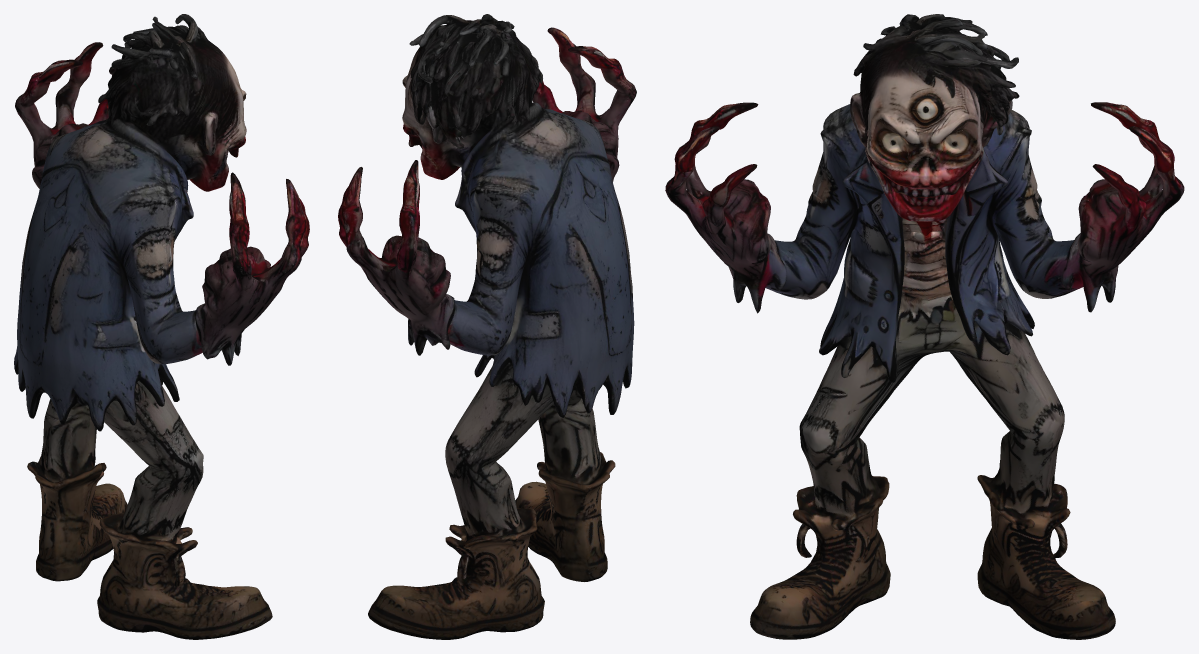
3 views of the same model, side by side, from view 1: azimuth 30°, elevation 25°; view 2: azimuth 150°, elevation 25°; view 3: azimuth 270°, elevation 25° (orthographic). The views are drawn at different scales.
Parts seen in each view (by area): view 1: tripo_node_6f90c206-b5cf-4a1b-a68e-b21daa916d3e; view 2: tripo_node_6f90c206-b5cf-4a1b-a68e-b21daa916d3e; view 3: tripo_node_6f90c206-b5cf-4a1b-a68e-b21daa916d3e.
Boxes of the visible parts, x1=… form: tripo_node_6f90c206-b5cf-4a1b-a68e-b21daa916d3e: x1=14, y1=14, x2=309, y2=639; tripo_node_6f90c206-b5cf-4a1b-a68e-b21daa916d3e: x1=338, y1=14, x2=636, y2=639; tripo_node_6f90c206-b5cf-4a1b-a68e-b21daa916d3e: x1=665, y1=14, x2=1184, y2=639.
Size of the model in its own units: 0.3764 by 0.9418 by 0.7174.
1 material, 1 textured.
